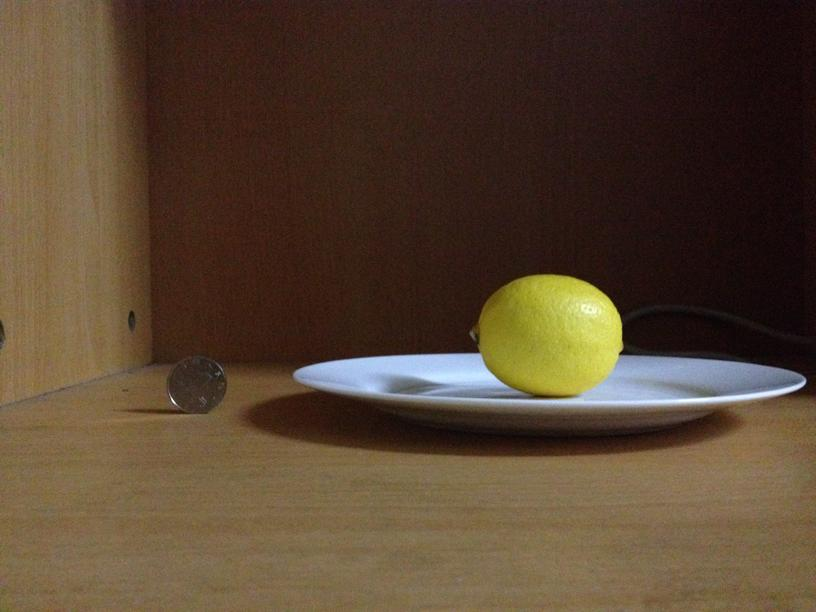coin: (167, 355, 227, 413)
lemon: (475, 271, 624, 396)
